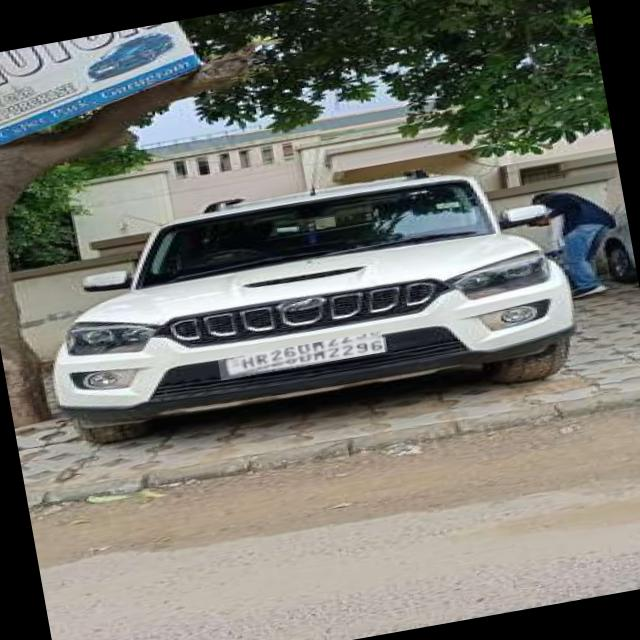Plate: (219, 332, 386, 382)
